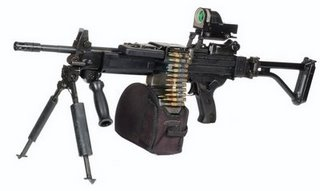rifle: (10, 21, 309, 176)
